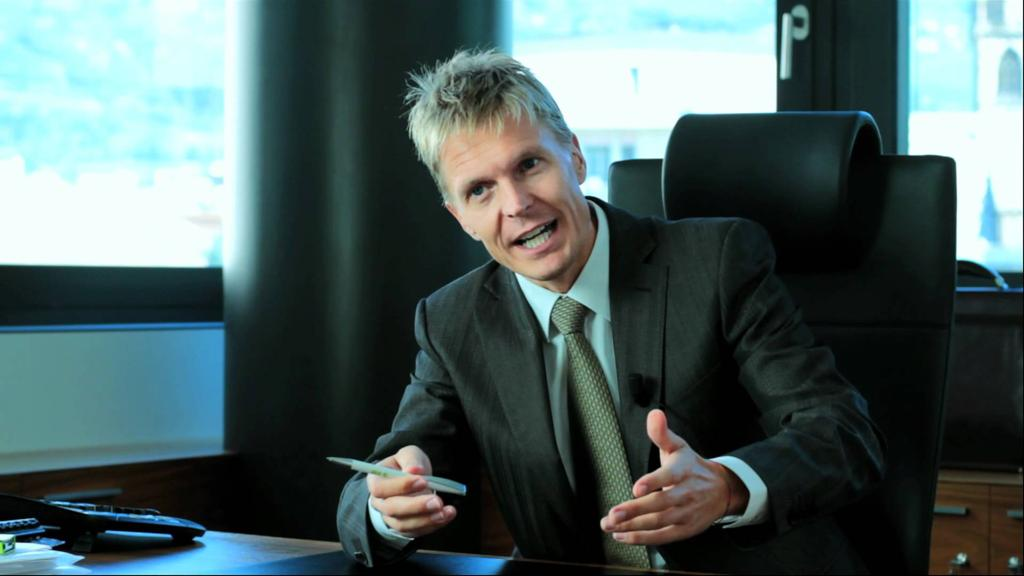face: (438, 110, 584, 274)
